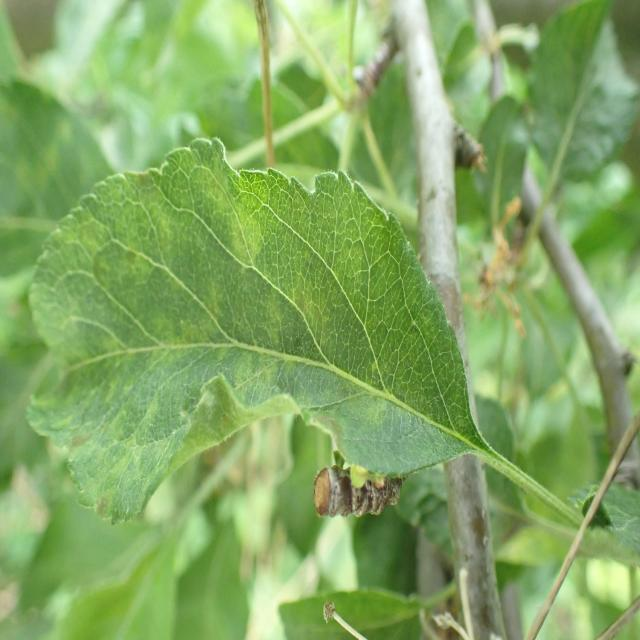scab: (40, 155, 450, 528)
